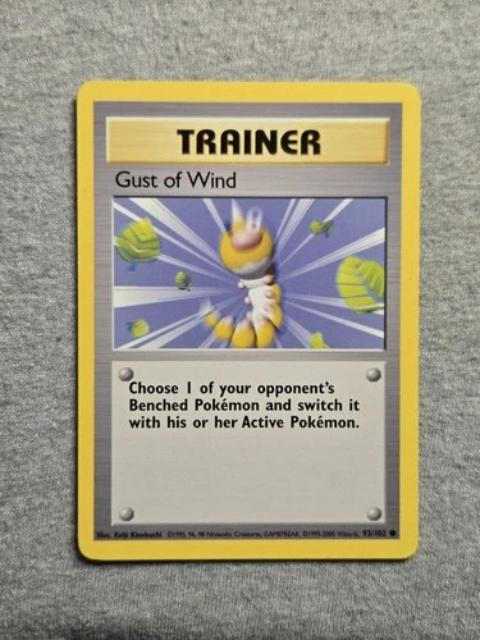Card: (70, 78, 424, 568)
Name: (105, 164, 239, 192)
